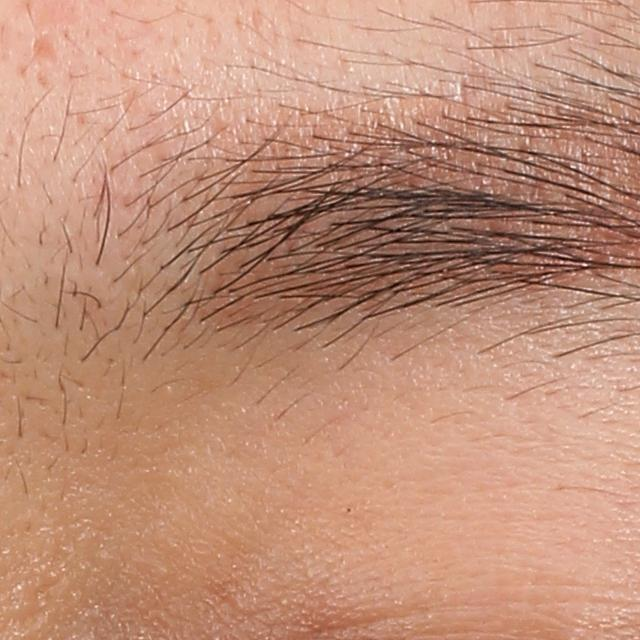atrophic_scar: (31, 36, 60, 64)
